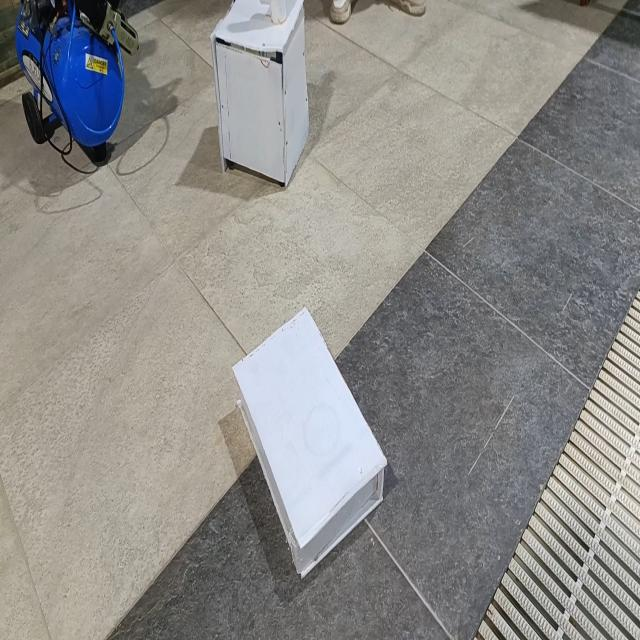Cube: (209, 0, 309, 188)
Cuboid: (230, 304, 388, 580)
